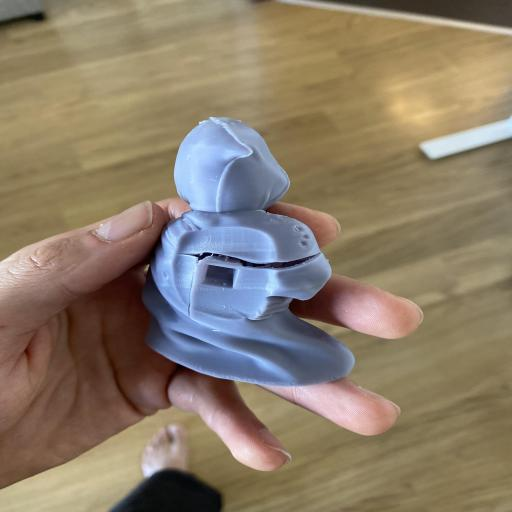cracks: (184, 237, 333, 290)
